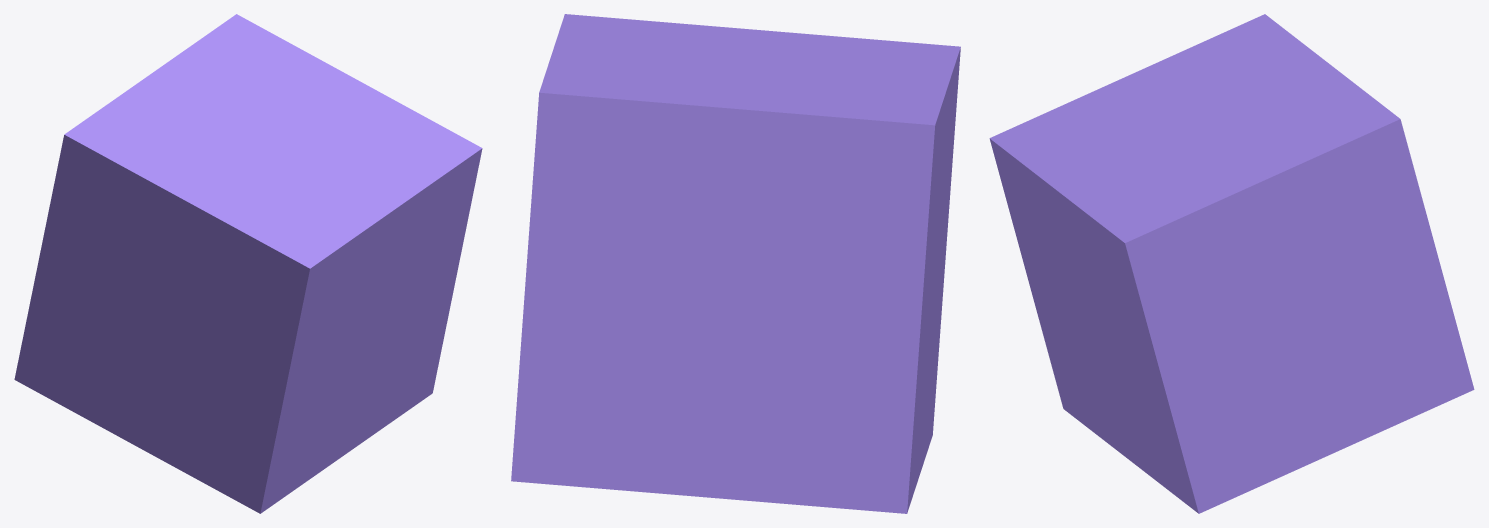
3 renders of one model, left to right at view 1: azimuth 30°, elevation 25°; view 2: azimuth 150°, elevation 25°; view 3: azimuth 270°, elevation 25°, orthographic. The views are drawn at different scales.
Visible parts, largest first — view 1: SnapAR demo cube; view 2: SnapAR demo cube; view 3: SnapAR demo cube.
Part boxes in pixels (left/top/right/bottom): SnapAR demo cube: left=14, top=14, right=482, bottom=513; SnapAR demo cube: left=511, top=14, right=960, bottom=513; SnapAR demo cube: left=989, top=14, right=1474, bottom=513.
Bounding box in the file's own units: 2.77 × 2.52 × 3.07.
